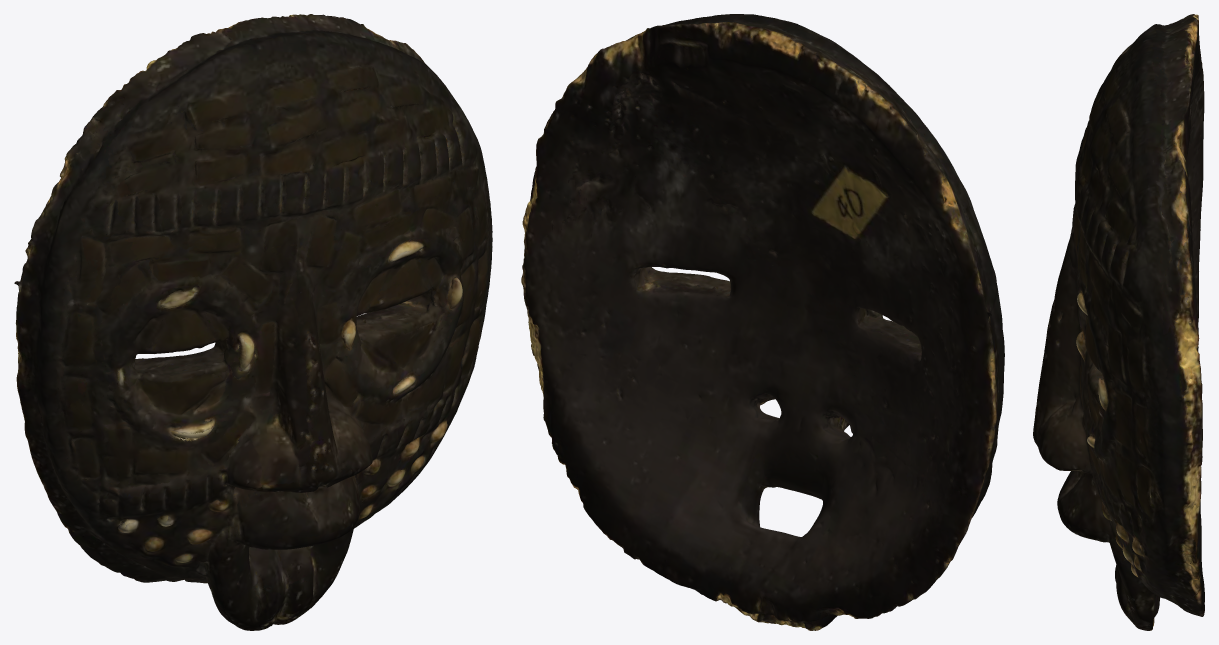
Rendered from preview.glb.
3 renders of one model, left to right at view 1: azimuth 30°, elevation 25°; view 2: azimuth 150°, elevation 25°; view 3: azimuth 270°, elevation 25°, orthographic. The views are drawn at different scales.
Parts seen in each view (by area): view 1: Object_2; view 2: Object_2; view 3: Object_2.
Boxes of the visible parts, x1,y1,x2,y2 form: Object_2: (14,14,492,630); Object_2: (521,14,1004,630); Object_2: (1033,14,1204,630).
Size of the model in its own units: 264 by 323 by 86.41.
1 material, 1 textured.
